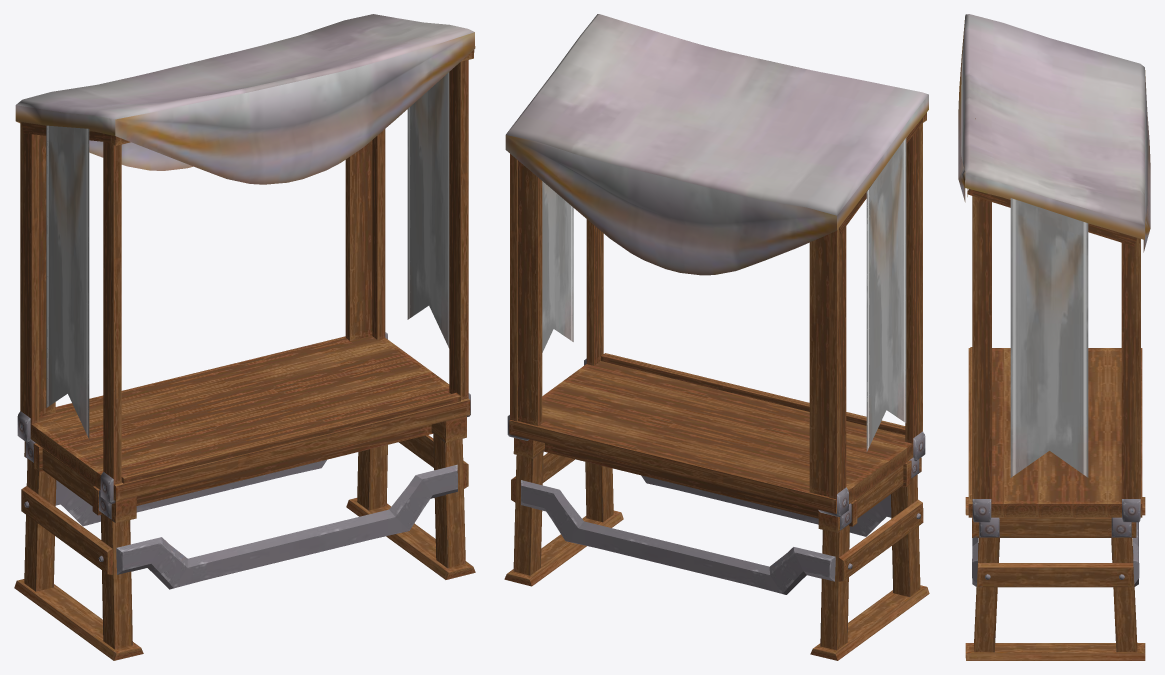
File: stall-qp-stallempty.glb
3 views of the same model, side by side, from view 1: azimuth 30°, elevation 25°; view 2: azimuth 150°, elevation 25°; view 3: azimuth 270°, elevation 25° (orthographic). The views are drawn at different scales.
Visible parts, largest first — view 1: Cube_212; view 2: Cube_212; view 3: Cube_212.
Boxes of the visible parts, x1,y1,x2,y2 form: Cube_212: [14, 14, 475, 660]; Cube_212: [504, 14, 929, 660]; Cube_212: [958, 14, 1150, 660].
Bounding box in the file's own units: 1.84 × 2.63 × 0.9323.
3 materials, 3 textured.
